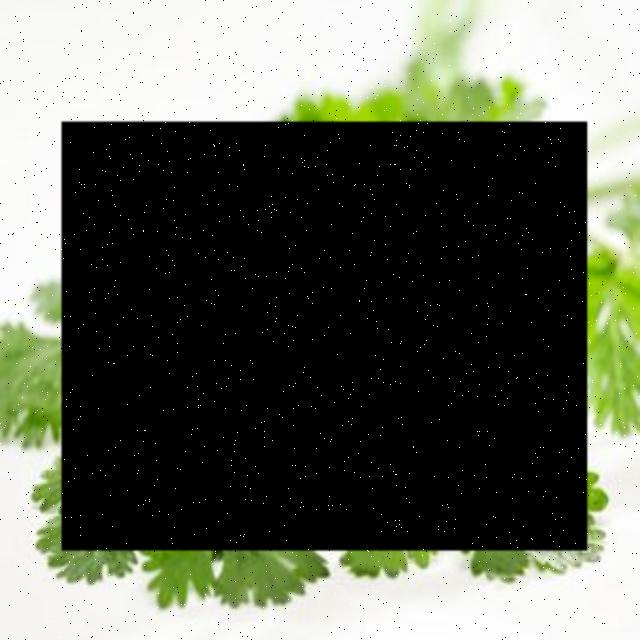Coriander: (61, 123, 588, 552)
